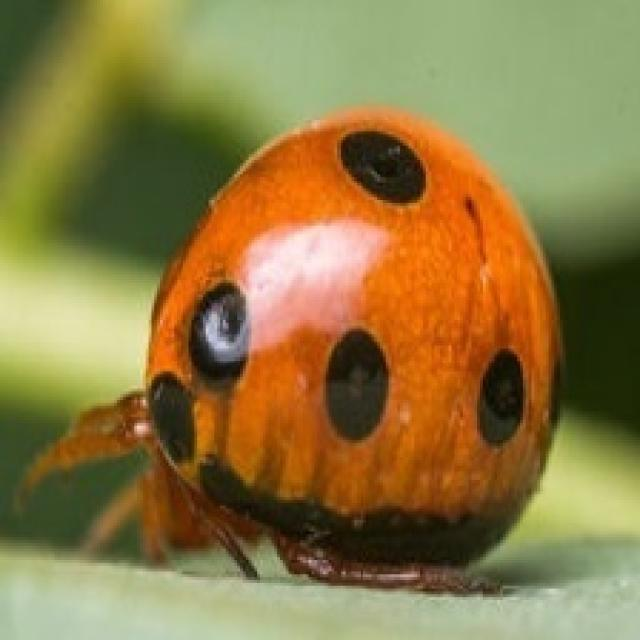Non venomous spider: (63, 43, 566, 614)
